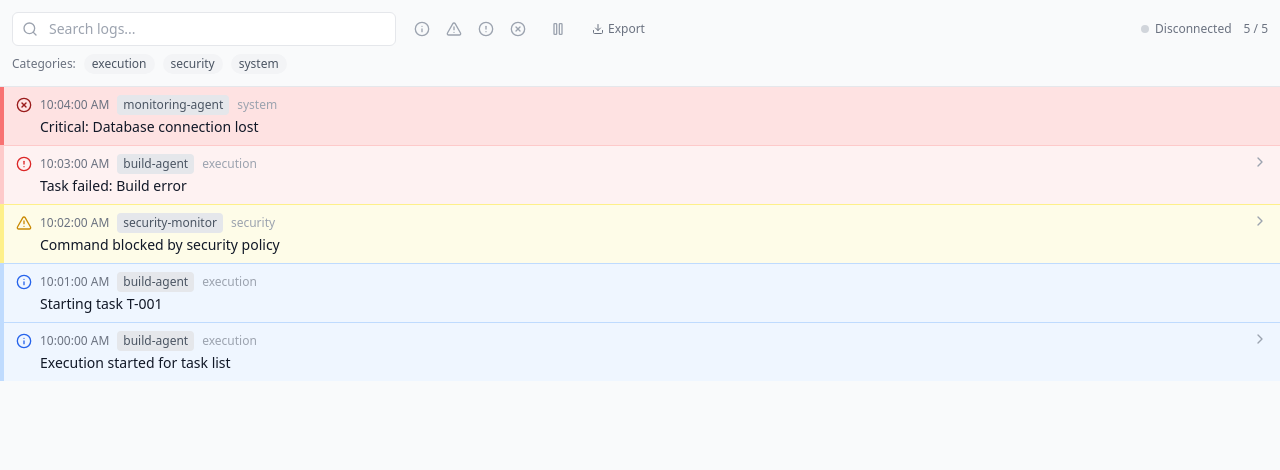
Test case: UnifiedLogViewer › Log expansion › expands log to show payload when clicked
# Click on log entry with payload
Click the text "Execution started for task list" at (135, 362), box top-left (40, 353), bottom-right (231, 372)
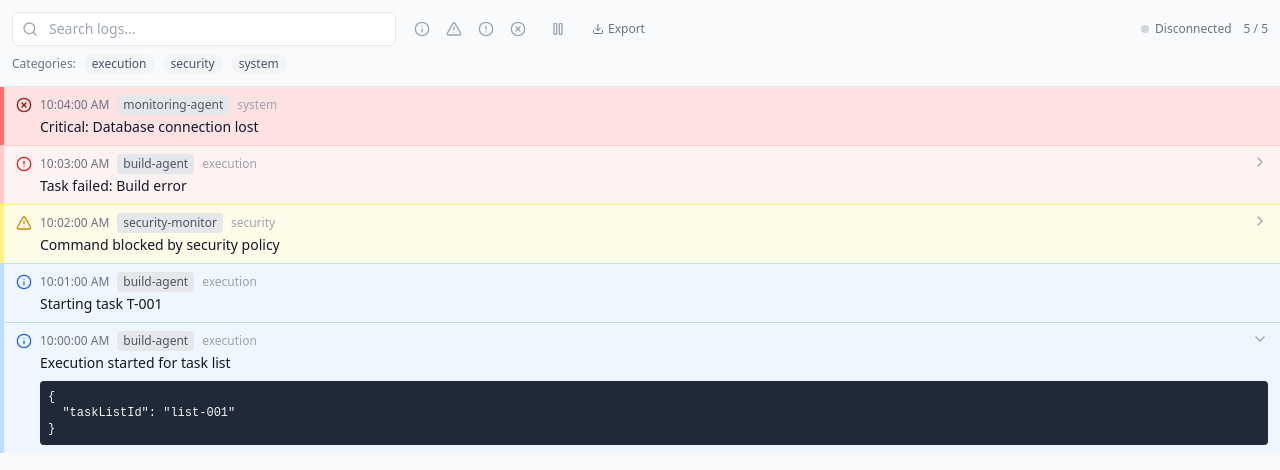
Check: the text "{ \"taskListId\": \"list-001\" }" is shown, box top-left (40, 381), bottom-right (1268, 445)
